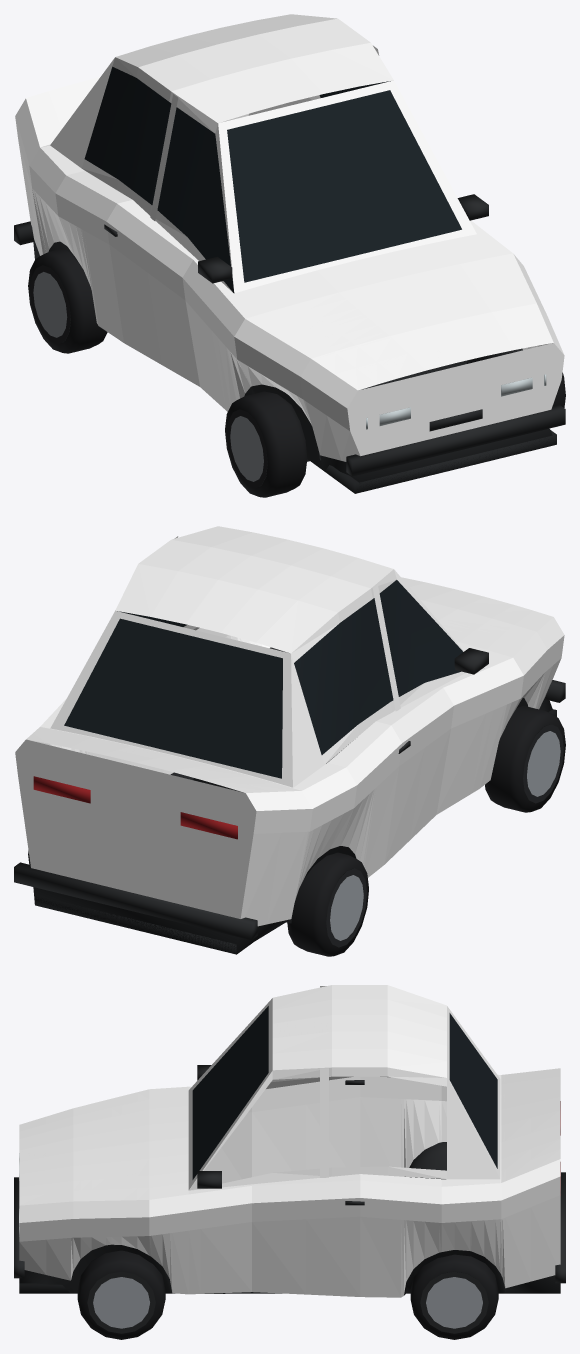
The model's file is kosame_ervilha.glb.
The picture shows the model from 3 angles, top to bottom: view 1: azimuth 30°, elevation 25°; view 2: azimuth 150°, elevation 25°; view 3: azimuth 270°, elevation 25°; orthographic projection. The views are drawn at different scales.
Parts seen in each view (by area): view 1: Body_Paint, Body_Details, Mount_FrontLeft_Wheel_Details, Mount_RearLeft_Wheel_Details; view 2: Body_Paint, Body_Details, Mount_FrontLeft_Wheel_Details, Mount_RearLeft_Wheel_Details; view 3: Body_Paint, Body_Details, Mount_FrontRight_Wheel_Details, Mount_RearRight_Wheel_Details.
Boxes of the visible parts, x1,y1,x2,y2 form: Body_Paint: [15, 14, 564, 461]; Body_Details: [14, 66, 565, 493]; Mount_FrontLeft_Wheel_Details: [225, 391, 307, 497]; Mount_RearLeft_Wheel_Details: [28, 248, 107, 353]; Body_Paint: [15, 526, 564, 926]; Body_Details: [14, 580, 565, 954]; Mount_FrontLeft_Wheel_Details: [485, 705, 565, 812]; Mount_RearLeft_Wheel_Details: [287, 852, 368, 956]; Body_Paint: [19, 985, 560, 1297]; Body_Details: [14, 1006, 565, 1295]; Mount_FrontRight_Wheel_Details: [77, 1250, 165, 1339]; Mount_RearRight_Wheel_Details: [410, 1254, 498, 1339].
Bounding box in the file's own units: 1.54 × 1.49 × 2.88.
Materials: 2 (1 with a texture image).
